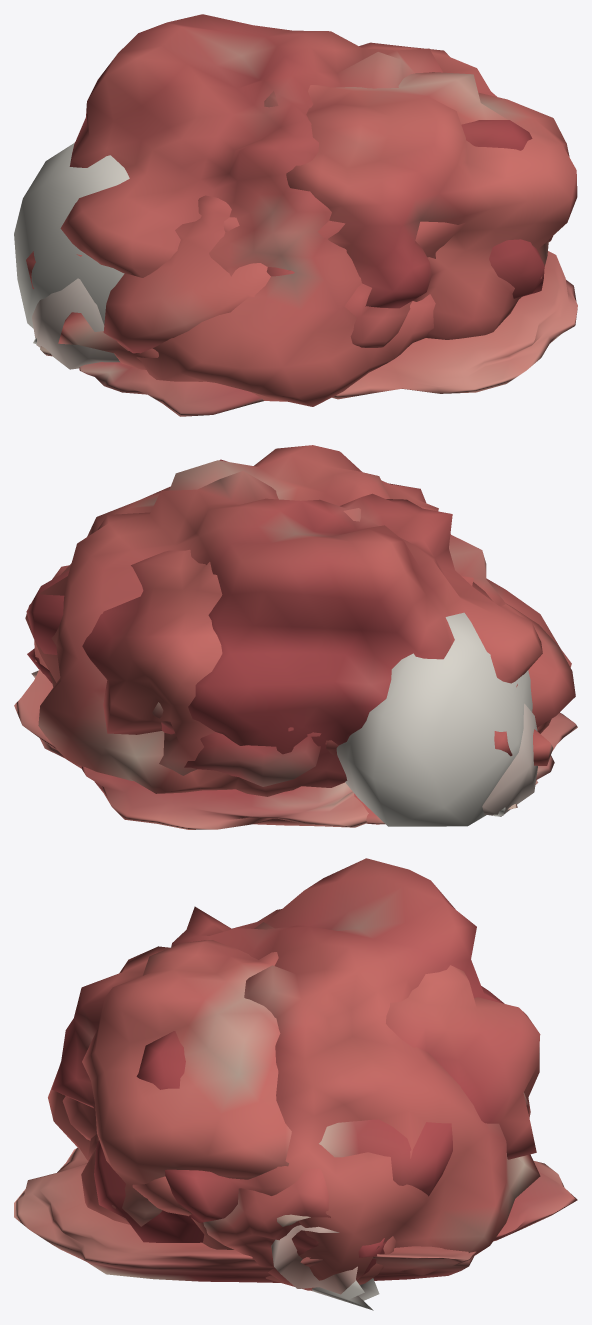
File: chunks.gltf
3 views of the same model, one above another, from view 1: azimuth 30°, elevation 25°; view 2: azimuth 150°, elevation 25°; view 3: azimuth 270°, elevation 25° (orthographic). The views are drawn at different scales.
Visible parts, largest first — view 1: lump1, lump3, bone2, flap2, flap1, bone1, lump2; view 2: lump1, lump3, bone2, flap2, bone1, flap1, lump2; view 3: lump1, lump3, flap2, lump2, bone2, bone1, rib1.
Part boxes in pixels (<box>): lump1: <box>26,14,544,406</box>; lump3: <box>103,72,577,353</box>; bone2: <box>14,143,552,347</box>; flap2: <box>332,251,577,399</box>; flap1: <box>40,346,264,416</box>; bone1: <box>32,278,119,369</box>; lump2: <box>58,254,158,369</box>; lump1: <box>25,459,571,796</box>; lump3: <box>26,445,575,775</box>; bone2: <box>49,612,532,826</box>; flap2: <box>14,669,368,829</box>; bone1: <box>31,670,537,816</box>; flap1: <box>354,712,577,824</box>; lump2: <box>27,565,553,765</box>; lump1: <box>48,858,540,1290</box>; lump3: <box>52,922,540,1226</box>; flap2: <box>14,1147,577,1282</box>; lump2: <box>203,1168,386,1283</box>; bone2: <box>62,1092,528,1284</box>; bone1: <box>271,1225,357,1294</box>; rib1: <box>311,1278,379,1310</box>.
Size of the model in its own units: 1.99 by 0.9979 by 1.9.
